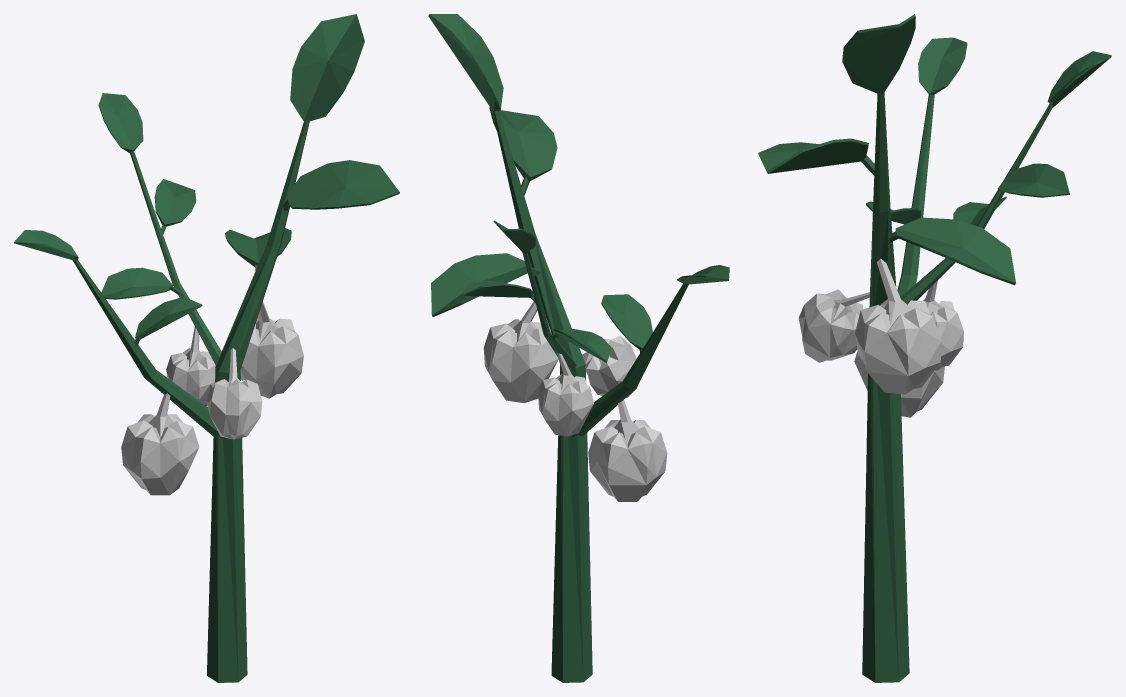
The model's file is mod_Plant_PoivronRougeM.fbx.
3 renders of one model, left to right at view 1: azimuth 30°, elevation 25°; view 2: azimuth 150°, elevation 25°; view 3: azimuth 270°, elevation 25°, orthographic. The views are drawn at different scales.
Parts seen in each view (by area): view 1: TigePoivron.004; view 2: TigePoivron.004; view 3: TigePoivron.004.
Part boxes in pixels (left/top/right/bottom): TigePoivron.004: left=14, top=14, right=399, bottom=682; TigePoivron.004: left=428, top=14, right=729, bottom=682; TigePoivron.004: left=758, top=14, right=1111, bottom=682.
Size of the model in its own units: 46.74 by 87.08 by 38.42.
